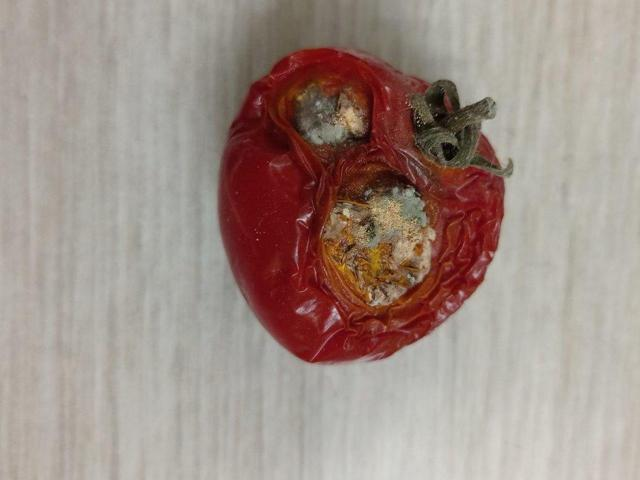defect: (216, 39, 513, 374)
